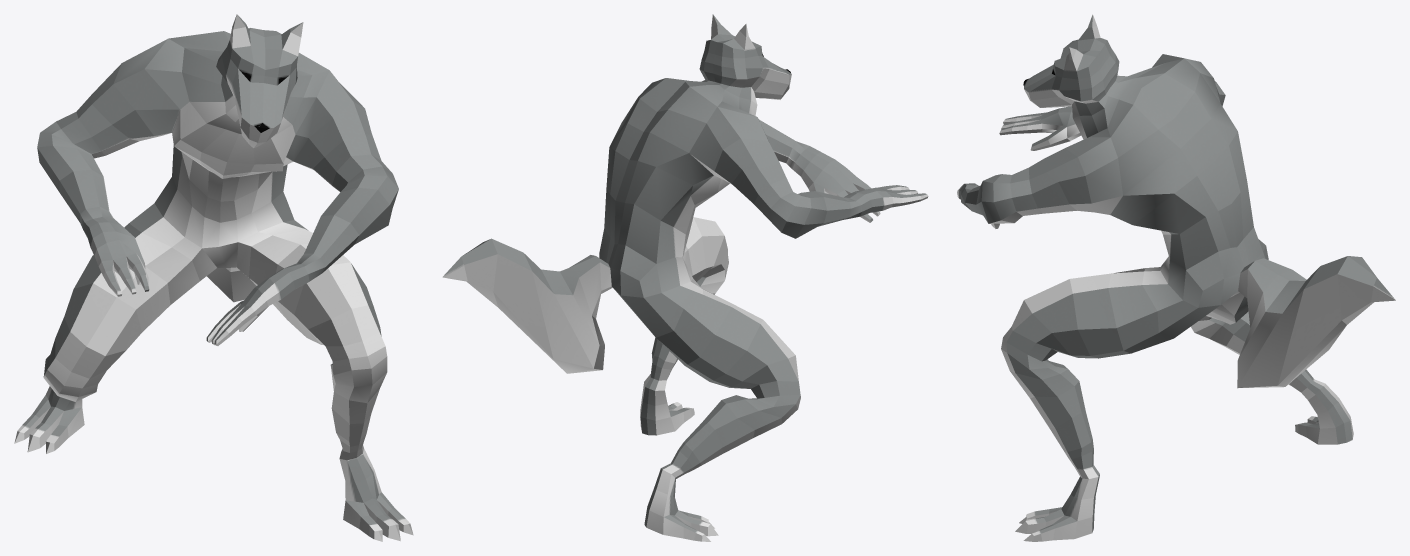
Rendered from WolfAttack(13).obj.
3 renders of one model, left to right at view 1: azimuth 30°, elevation 25°; view 2: azimuth 150°, elevation 25°; view 3: azimuth 270°, elevation 25°, orthographic. The views are drawn at different scales.
Visible parts, largest first — view 1: Box001; view 2: Box001; view 3: Box001.
Boxes of the visible parts, box(x1,y1,x2,y2) form: Box001: box(14, 14, 413, 541); Box001: box(442, 14, 928, 541); Box001: box(957, 14, 1395, 541).
Bounding box in the file's own units: 91.27 × 126 × 107.
